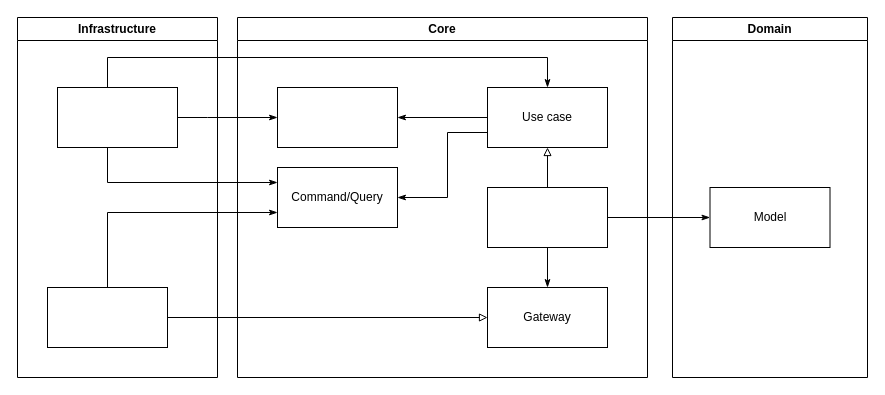
This 885x395 diagram has some shape labels left out. The shapes that lost their labels are listed below. From the top down, each one's centre as x and y in pixels, then its label:
At point 117,117: "Controller/CLI".
At point 337,117: "Presenter".
At point 547,217: "Interactor".
At point 107,317: "Interface Adapter".
